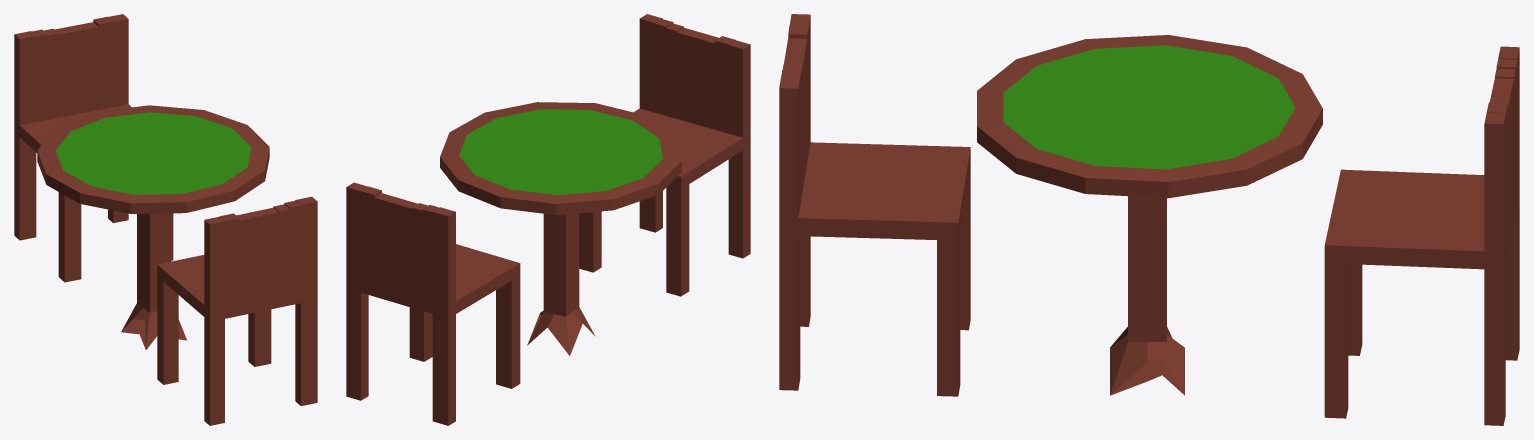
Rendered from SaloonTable.fbx.
3 renders of one model, left to right at view 1: azimuth 30°, elevation 25°; view 2: azimuth 150°, elevation 25°; view 3: azimuth 270°, elevation 25°, orthographic. The views are drawn at different scales.
Visible parts, largest first — view 1: Chair2, TableTop, Chair, TableBase; view 2: Chair, TableTop, Chair2, TableBase; view 3: TableTop, Chair, Chair2, TableBase.
Part boxes in pixels (x1,y1,x2,y2): Chair2: (157,196,317,425); TableTop: (37,105,269,213); Chair: (14,14,173,282); TableBase: (121,213,186,349); Chair: (346,182,520,425); TableTop: (440,102,681,215); Chair2: (579,14,750,296); TableBase: (527,213,595,355); TableTop: (977,35,1322,198); Chair: (1324,46,1519,425); Chair2: (779,14,970,396); TableBase: (1110,196,1184,395).
Bounding box in the file's own units: 388 × 396 × 825.
